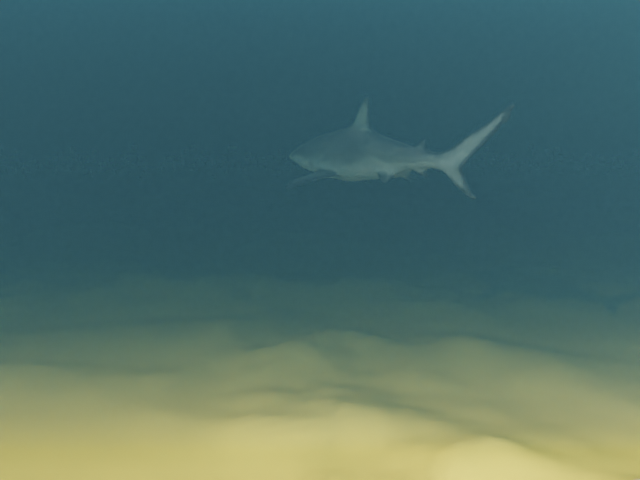Carribean Shark.001: (285, 96, 514, 199)
